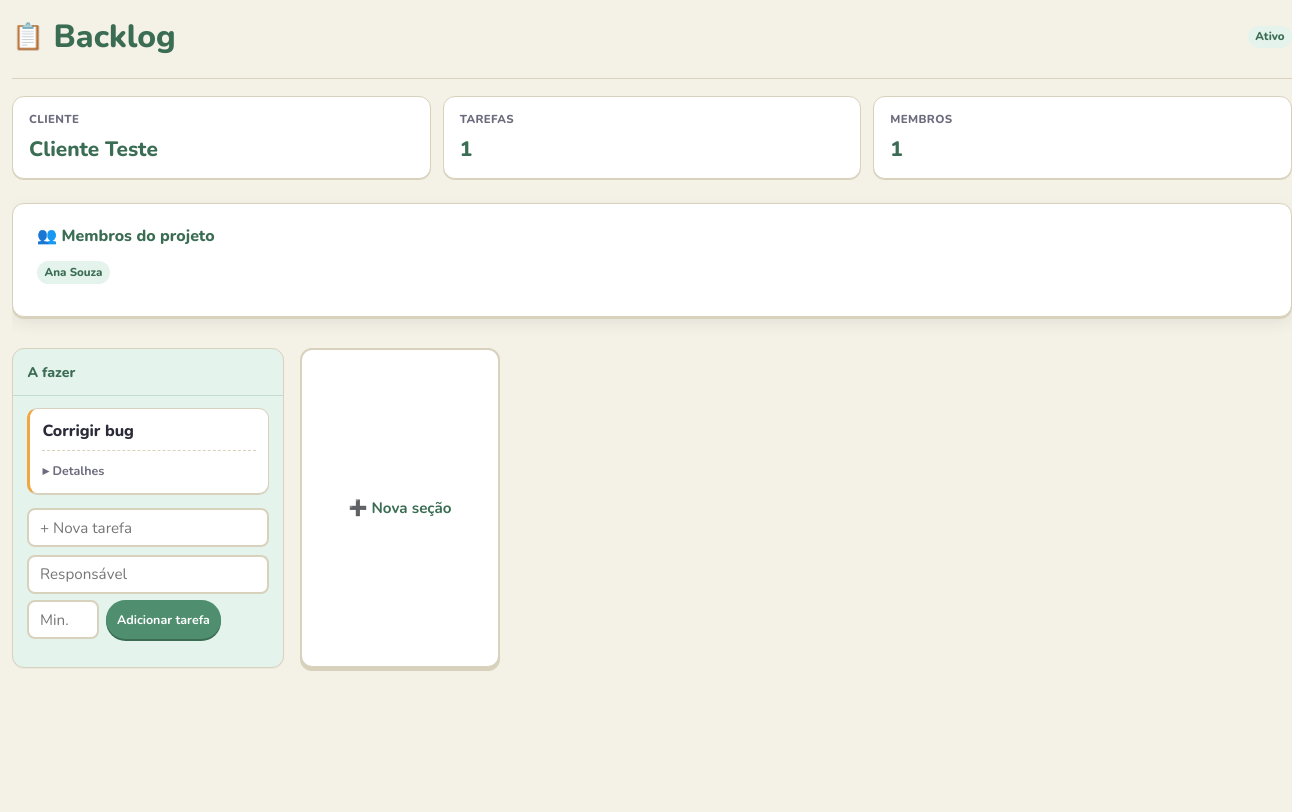
ProjetoDetalhePage › nome de responsável que não bate com nenhuma pessoa cadastrada mostra "Pessoa não encontrada" e cria a tarefa sem atribuir ninguém
Check: the button "Corrigir bug" is shown, box [42,420,134,442]
In the field labelled "+ Nova tarefa": (148, 528) [27,508,269,547], type "Tarefa sem dono"
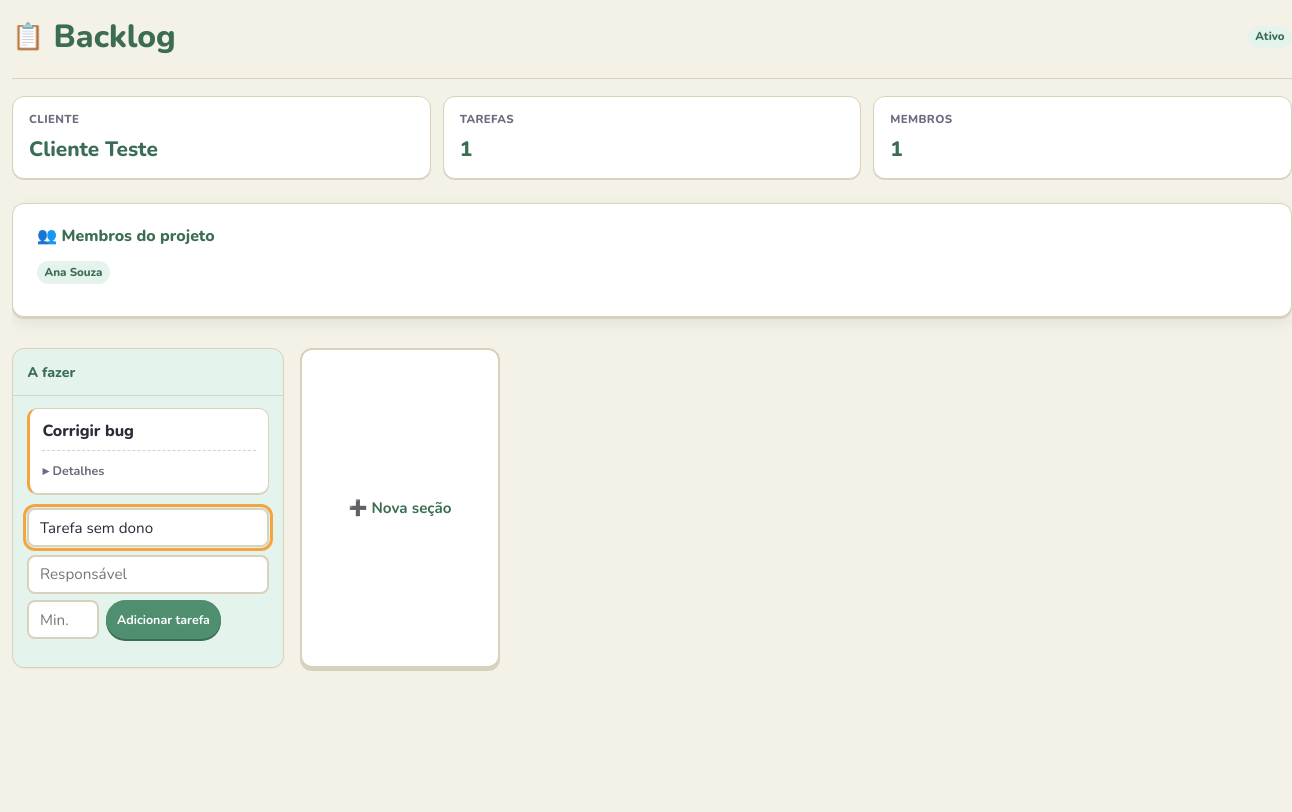
In the dropdown named "nome do responsável": (148, 574) [27,555,269,594], type "Alguém que não existe"
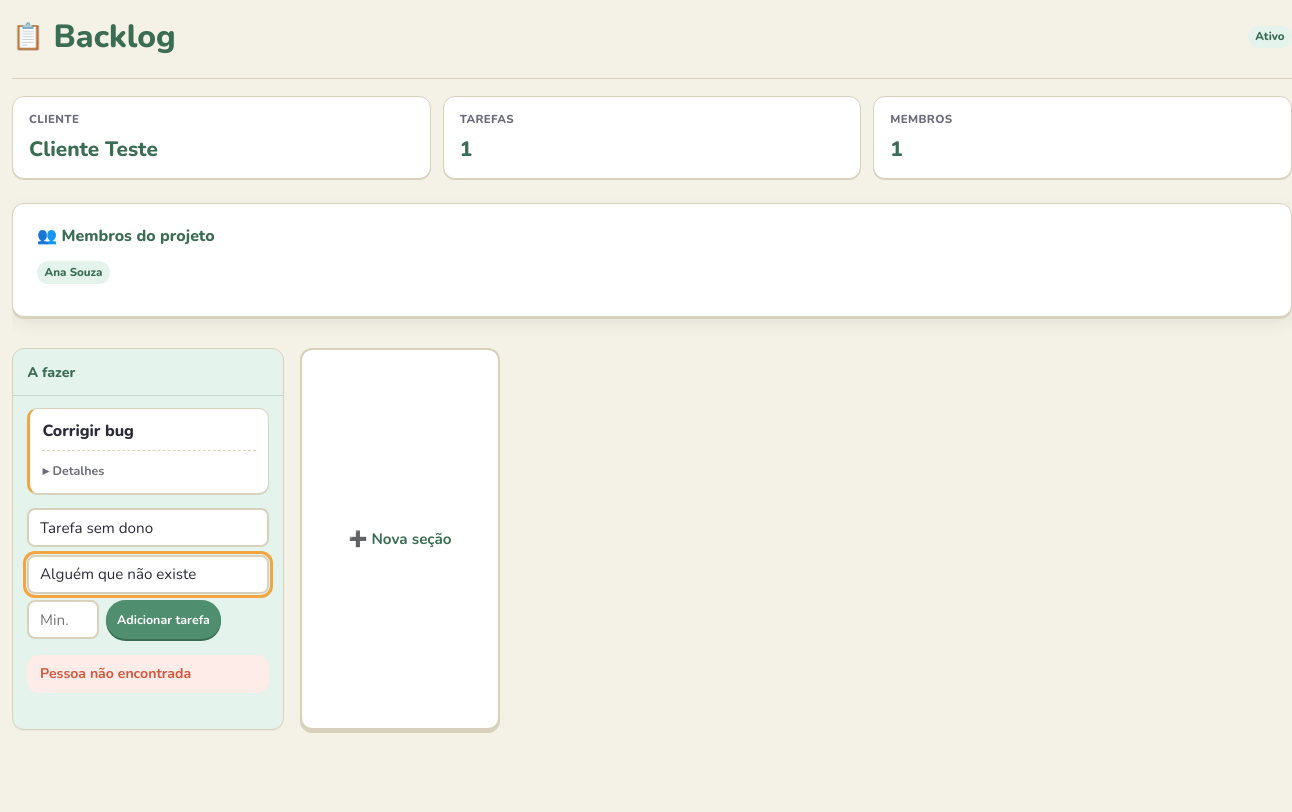
Check: the text "Pessoa não encontrada" is shown, box [27,654,269,693]
Click the button "Adicionar tarefa": click(164, 620) [106,600,221,639]
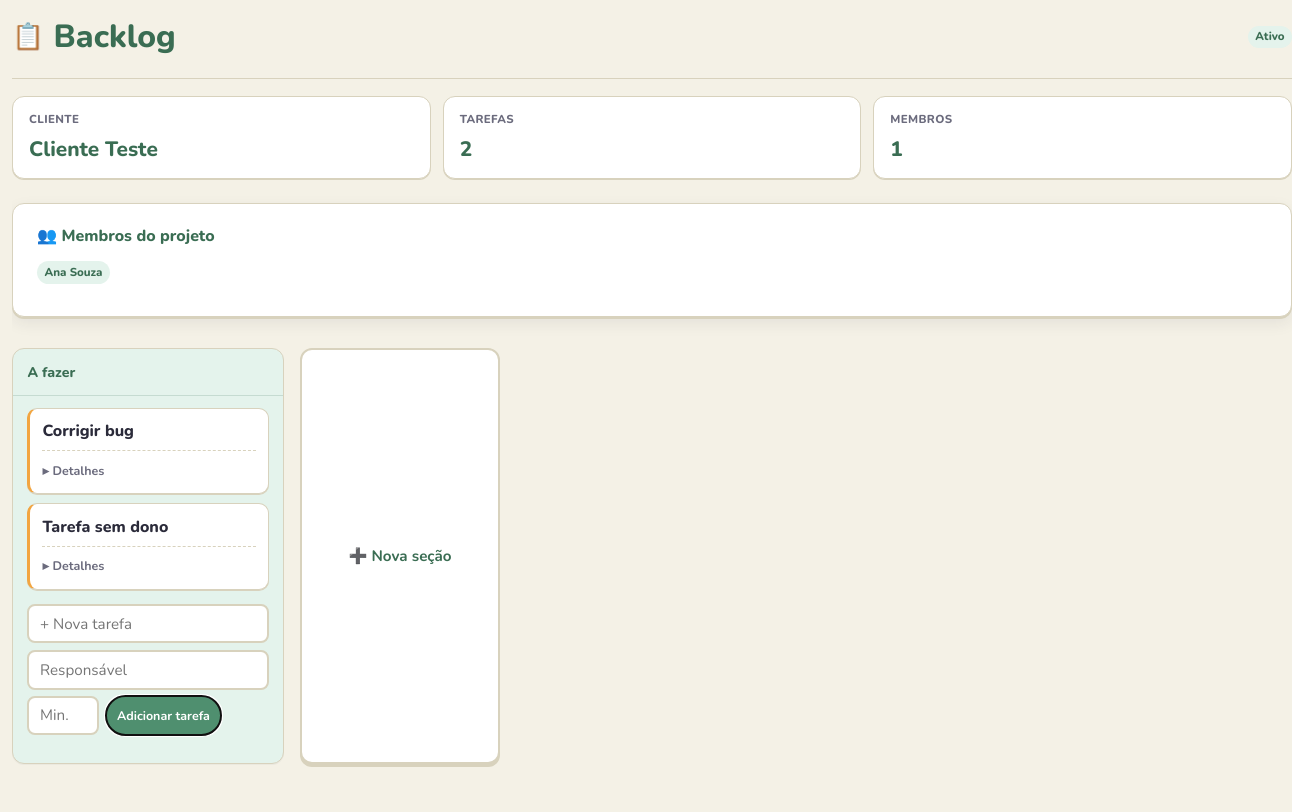
Check: the button "Tarefa sem dono" is shown, box [42,516,168,538]
